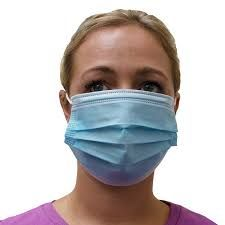with-mask: (57, 28, 183, 187)
